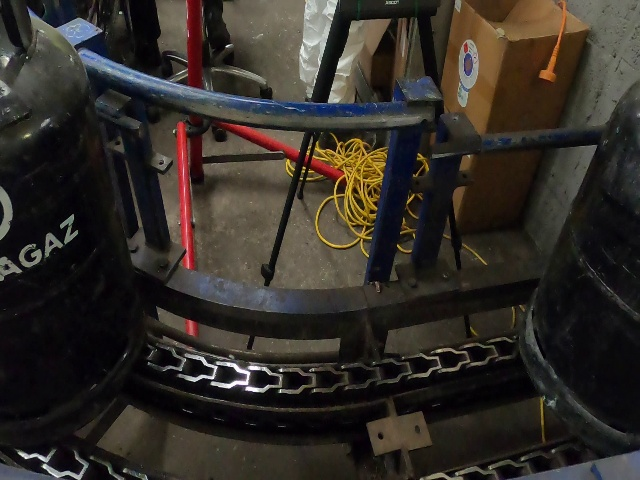gas_bottle: (5, 2, 640, 480)
